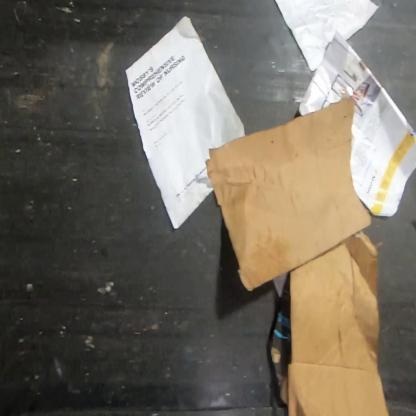cardboard: (204, 95, 372, 296), (265, 229, 391, 415)
